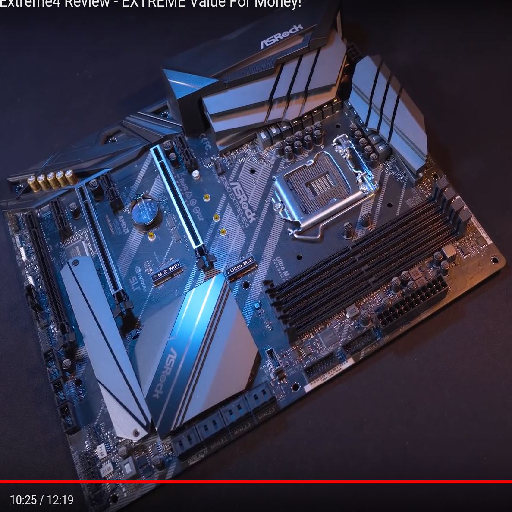CPU: (269, 132, 381, 231)
GPU: (147, 142, 219, 273), (73, 182, 135, 319)
MOTHERBOARD: (4, 8, 505, 508)
RAM: (259, 175, 473, 348)
SSD: (223, 252, 258, 285), (150, 257, 183, 287)
